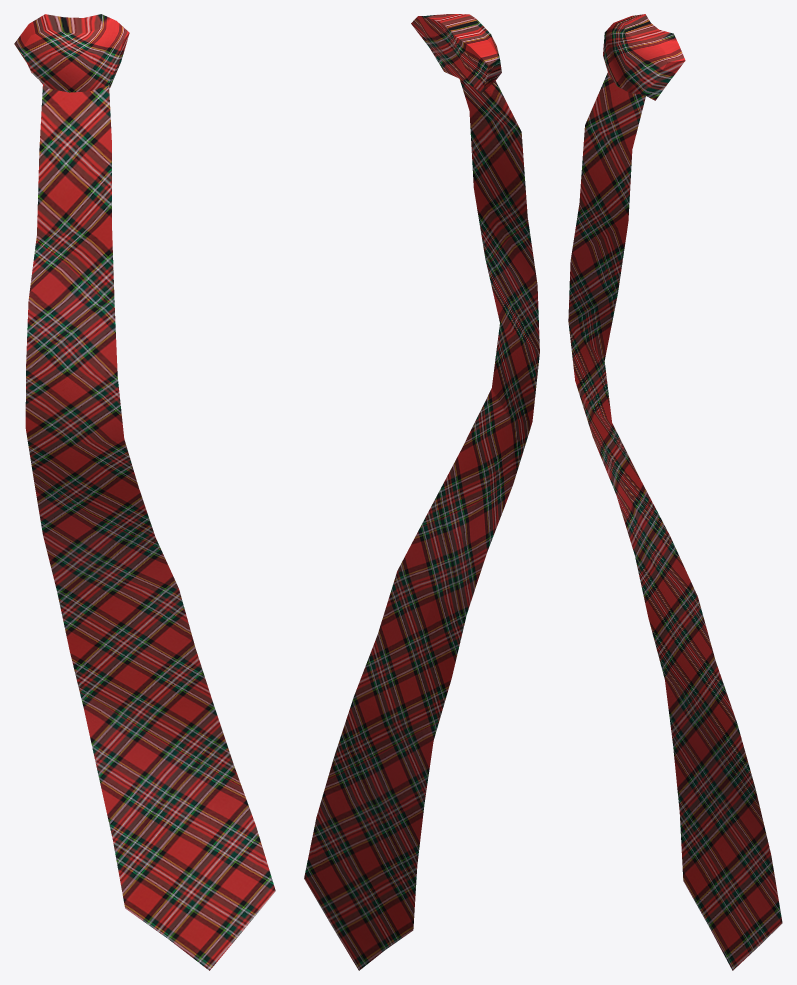
The model's file is Pose-9_Tie-1.fbx.
The picture shows the model from 3 angles, left to right: view 1: azimuth 30°, elevation 25°; view 2: azimuth 150°, elevation 25°; view 3: azimuth 330°, elevation 25°; orthographic projection. The views are drawn at different scales.
Parts seen in each view (by area): view 1: Pose-9_Tie-1; view 2: Pose-9_Tie-1; view 3: Pose-9_Tie-1.
Boxes of the visible parts, left/top/right/bottom form: Pose-9_Tie-1: left=14, top=14, right=275, bottom=970; Pose-9_Tie-1: left=304, top=14, right=539, bottom=970; Pose-9_Tie-1: left=568, top=14, right=782, bottom=970.
Size of the model in its own units: 12.62 by 48.54 by 5.37.
